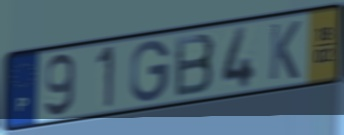1: (95, 43, 116, 111)
4: (220, 24, 258, 91)
9: (44, 51, 77, 120)
B: (174, 31, 218, 100)
G: (128, 38, 172, 105)
K: (267, 19, 302, 83)
